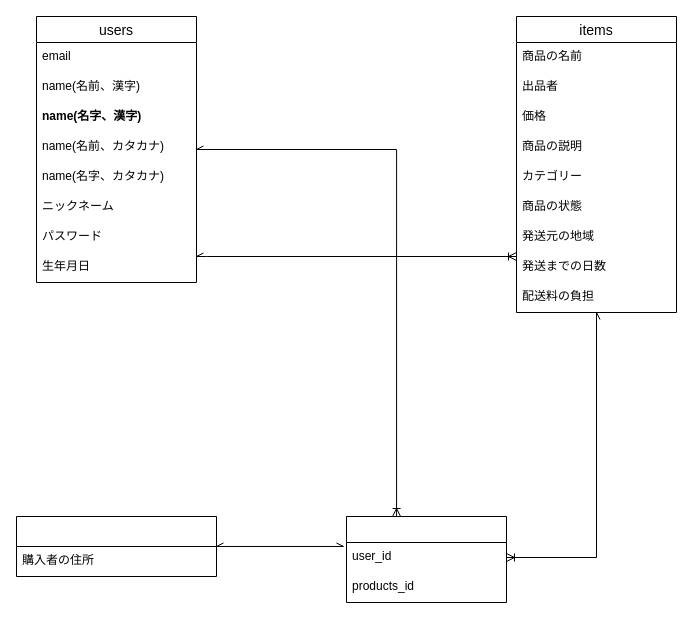
Image size: 693x619. Some labels were removed from this diagram. Each missing label, with the box of its shape:
address: (16, 516, 216, 576)
ordeers: (346, 516, 506, 602)
